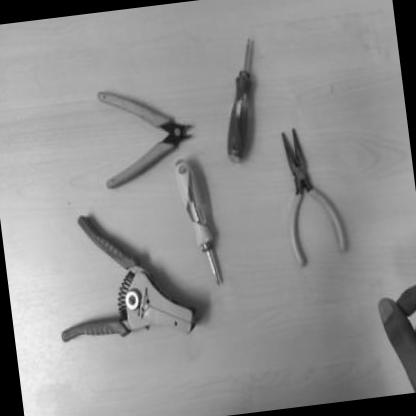Screwdriver: (212, 30, 272, 166), (171, 150, 227, 292)
